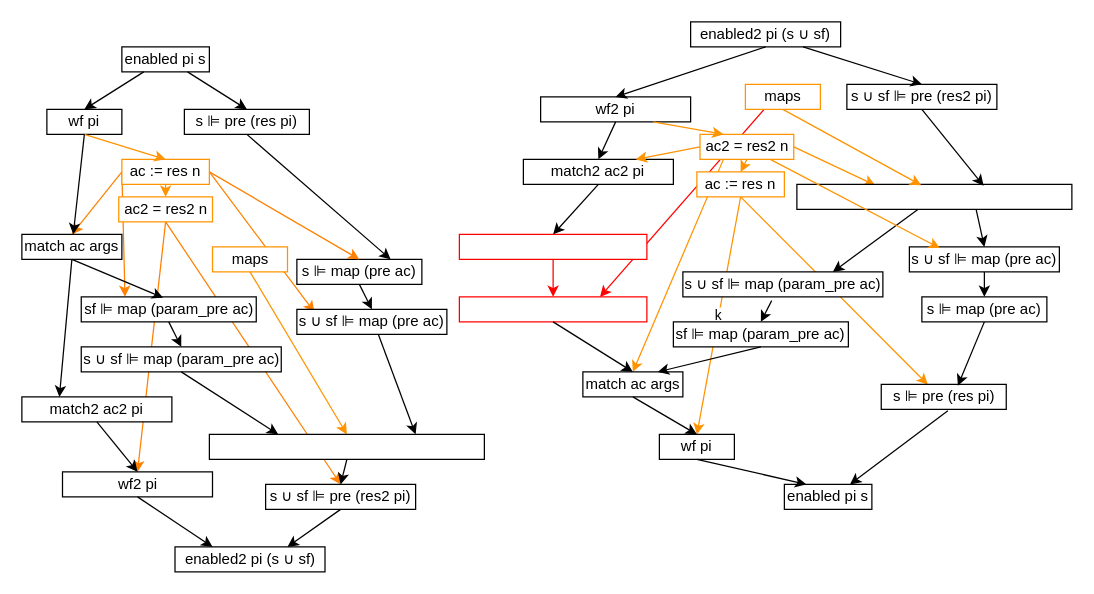
The diagram is 1094 pixels wide and 594 high, and some of its shapes have lost their labels. The shapes that lost their labels are listed below. From the top down, each one's centre as x and y in pixels, then its label:
(934,196): s ∪ sf ⊫ map (param_pre ac & pre ac)
(552,246): len (params ac2) = len args
(552,309): len (params ac) = len args
(346,446): s ∪ sf ⊫ map2 (param_pre ac & pre ac)
